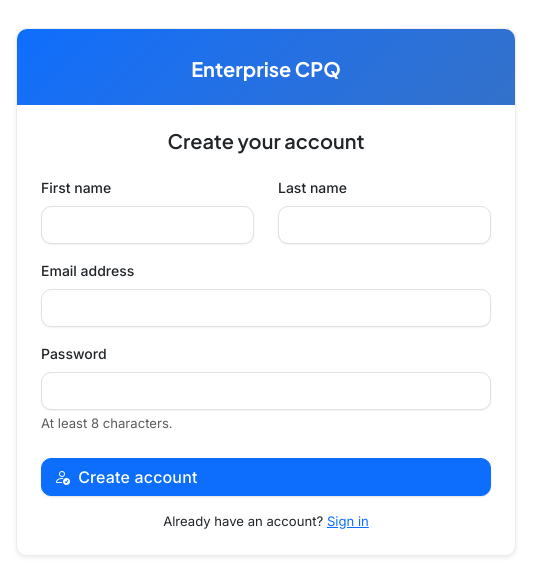
it: Register page › shows field-level errors returned from the API (422)
Type "Jane" into the field labelled "First name" at point(148, 225), box [41,206,254,244]
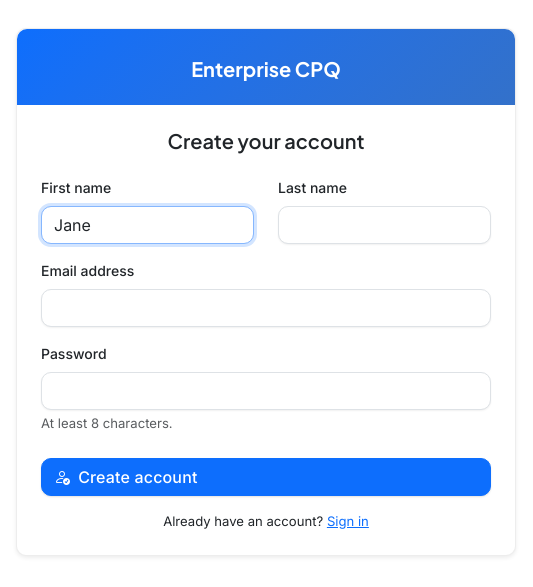
Type "Doe" into the field labelled "Last name" at point(384, 225), box [278,206,491,244]
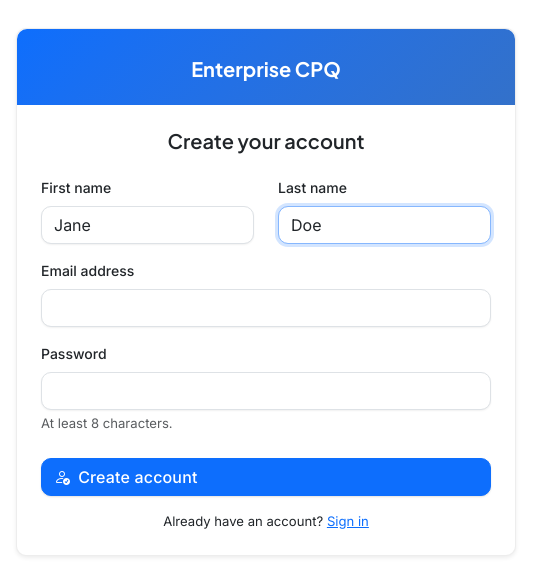
Type "not-an-email" into the field labelled "Email address" at point(266, 308), box [41,289,491,327]
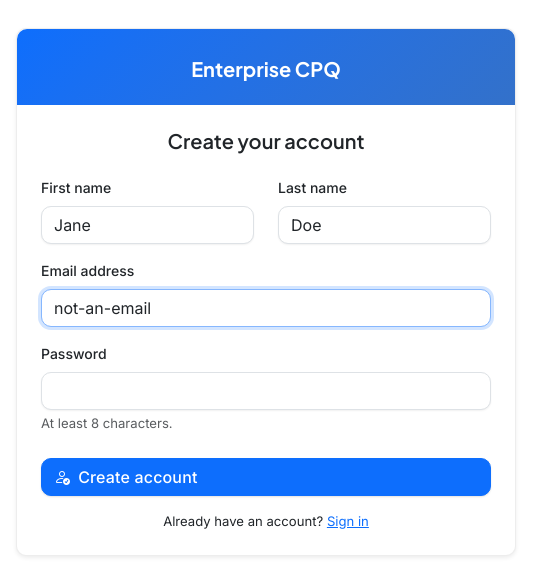
Type "password123" into the password field labelled "Password" at point(266, 391), box [41,372,491,410]
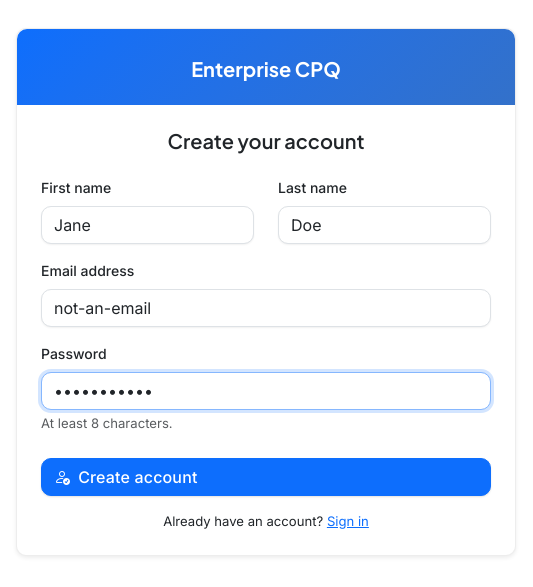
Click the button "Create account" at point(138, 476), box [41,458,491,496]
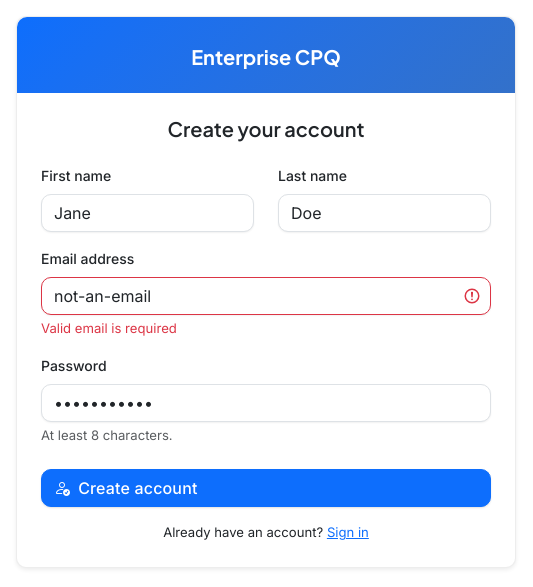
expect the text "Valid email is required" is shown: met, box [41,320,177,336]
